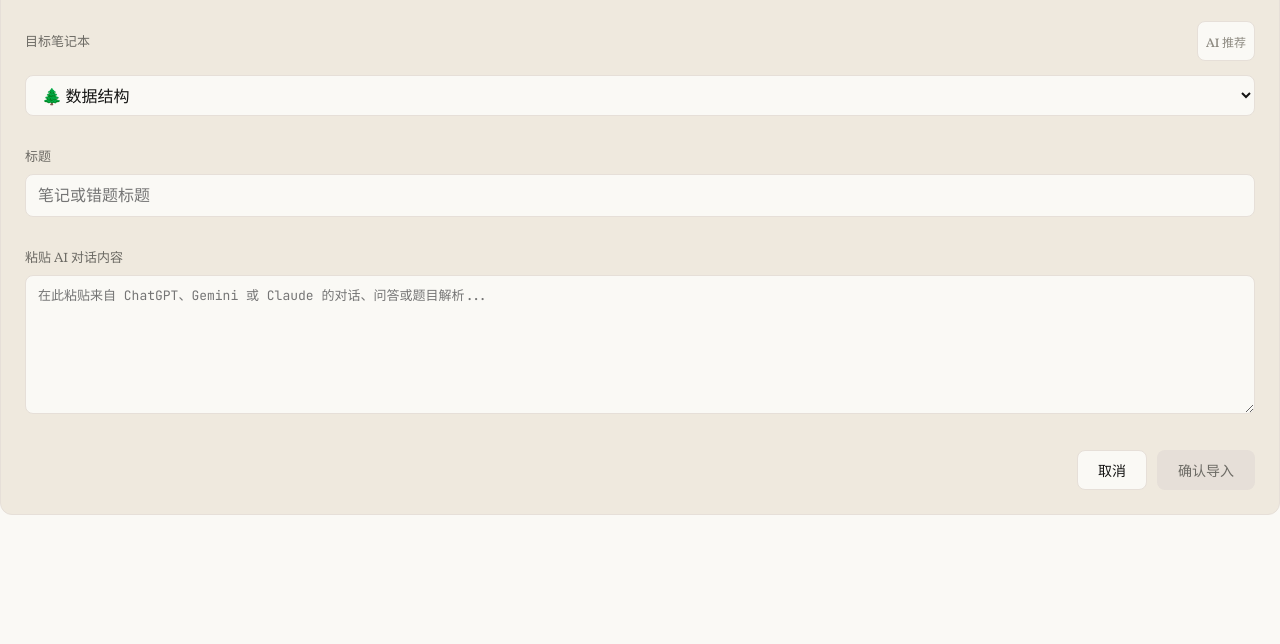
Test: AiDialogueImportModal › 正则识别失败的测验文本显示「用 AI 重新解析」，点击后预览内容更新
In the text box with placeholder "在此粘贴来自 ChatGPT、Gemini 或 Claude 的对话、问答或题目解析...": (640, 345) [25, 275, 1255, 414], type "一段格式混乱的题目文本，没有明确标注答案"
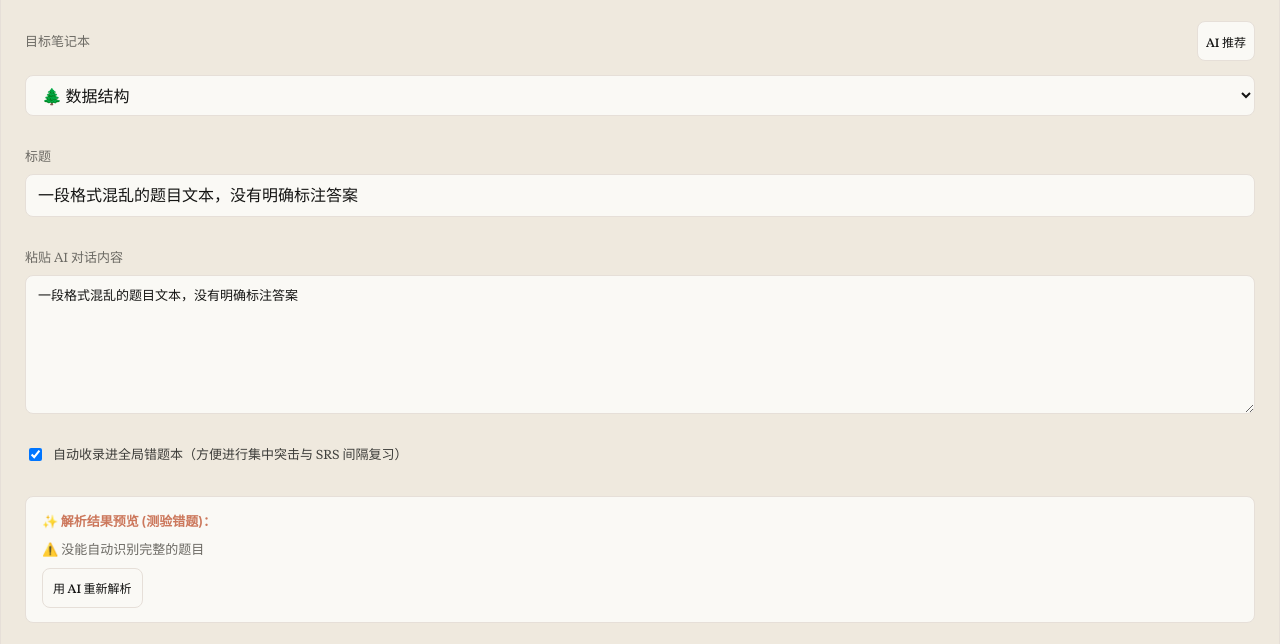
Expected: the text "⚠️ 没能自动识别完整的题目" is shown, [42, 540, 204, 557]
Expected: the button "用 AI 重新解析" is shown
Click the button "用 AI 重新解析": (92, 588) [42, 568, 143, 608]
(page scrolled)
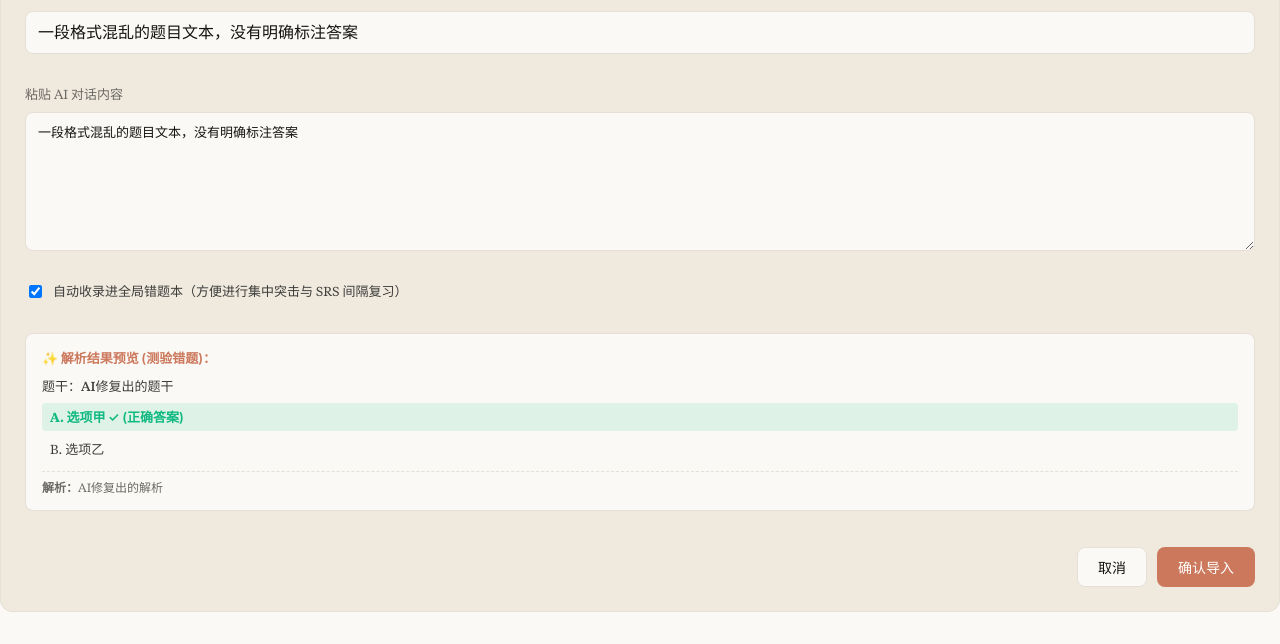
Expected: the text "题干：AI修复出的题干" is shown, [42, 377, 174, 394]
Expected: the text "A. 选项甲 ✓ (正确答案)" is shown, [42, 402, 1238, 431]
Expected: the text "解析：AI修复出的解析" is shown, [42, 471, 1238, 496]
